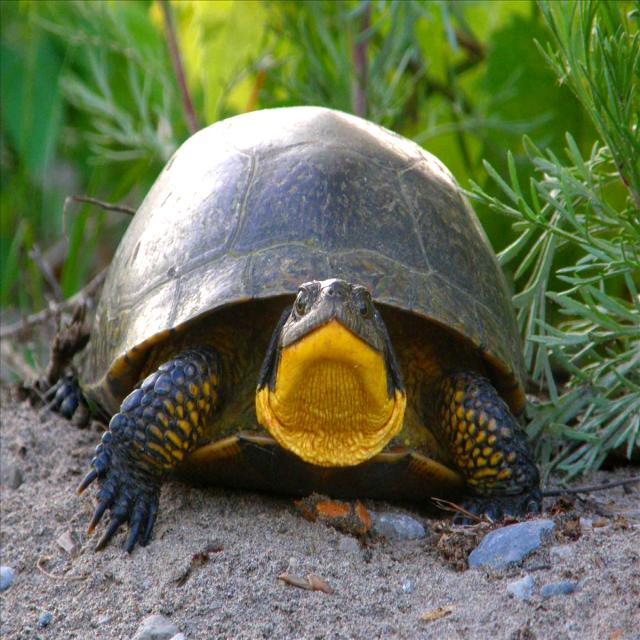Sea turtle: (51, 80, 550, 600)
